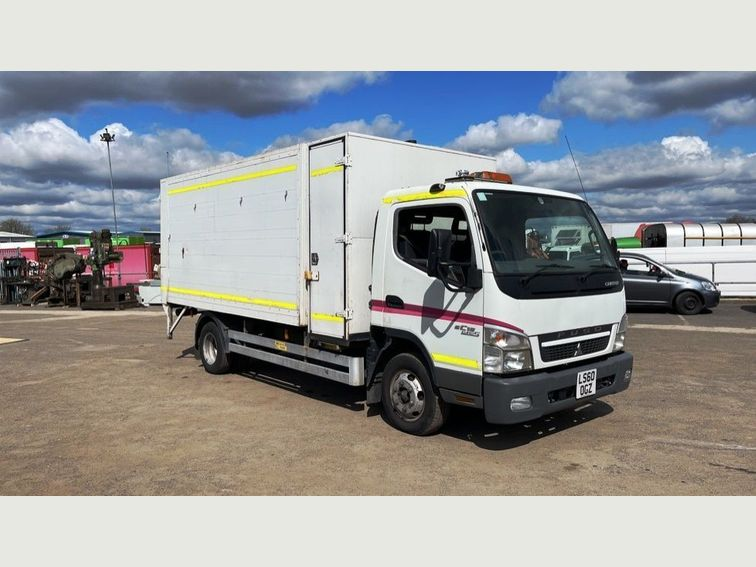Car: (609, 252, 719, 314)
Semi: (159, 132, 632, 435)
